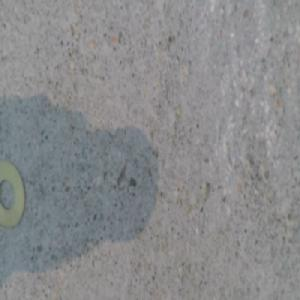Washer: (1, 160, 26, 225)
